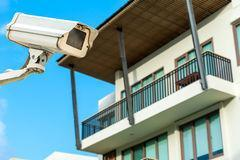CCTV: (0, 13, 98, 86)
